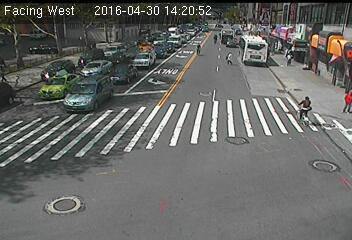neg: (294, 93, 318, 126), (98, 80, 113, 100), (192, 41, 206, 60), (163, 97, 175, 112), (211, 30, 221, 44)
pos: (281, 51, 297, 72), (339, 87, 351, 114), (223, 51, 233, 64)
